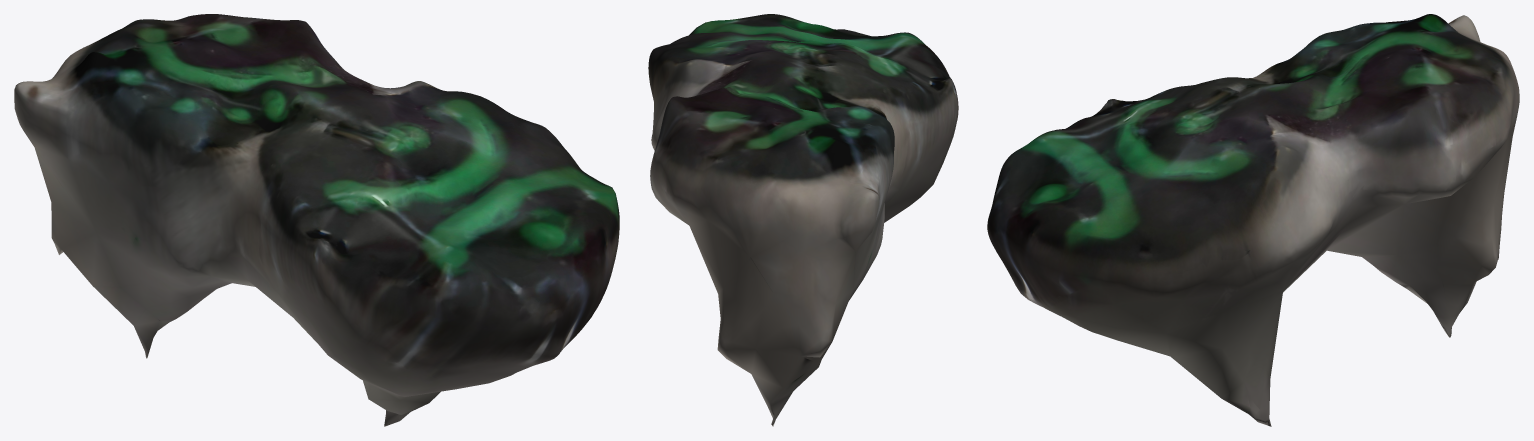
The picture shows the model from 3 angles, left to right: view 1: azimuth 30°, elevation 25°; view 2: azimuth 150°, elevation 25°; view 3: azimuth 270°, elevation 25°; orthographic projection. The views are drawn at different scales.
Bounding box in the file's own units: 0.3406 × 0.2867 × 0.4257.
Materials: 1 (1 with a texture image).
